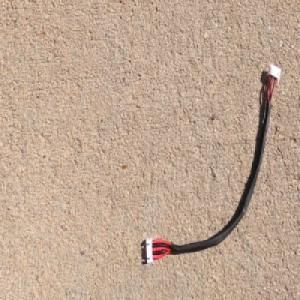Wire: (143, 61, 281, 265)
